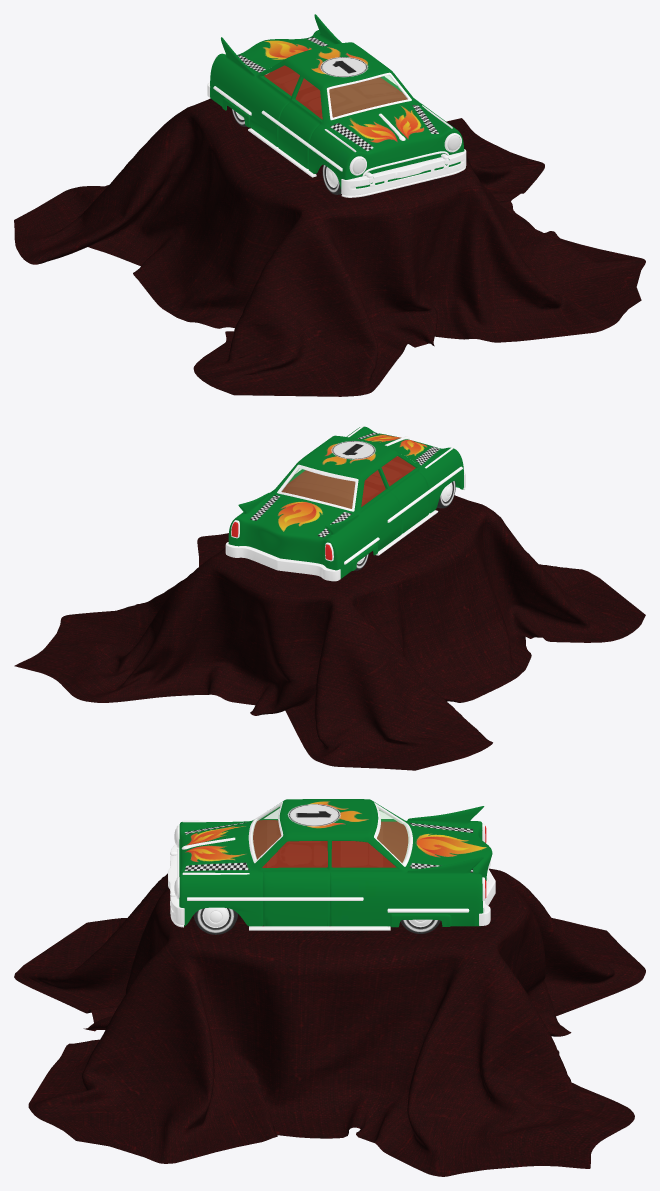
File: toycar.glb
3 views of the same model, one above another, from view 1: azimuth 30°, elevation 25°; view 2: azimuth 150°, elevation 25°; view 3: azimuth 270°, elevation 25° (orthographic). The views are drawn at different scales.
Visible parts, largest first — view 1: Fabric, ToyCar, Glass; view 2: Fabric, ToyCar, Glass; view 3: Fabric, ToyCar, Glass.
Boxes of the visible parts, <box> form: Fabric: <box>14,98,645,396</box>; ToyCar: <box>207,14,466,197</box>; Glass: <box>329,75,407,116</box>; Fabric: <box>14,495,645,770</box>; ToyCar: <box>225,425,465,581</box>; Glass: <box>282,468,354,508</box>; Fabric: <box>14,868,645,1176</box>; ToyCar: <box>168,799,495,934</box>; Glass: <box>252,806,409,862</box>.
Bounding box in the file's own units: 0.0734 × 0.0288 × 0.074.
Materials: 3 (2 with a texture image).
